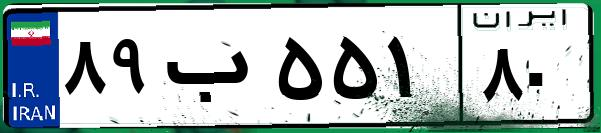0: (525, 38, 570, 115)
1: (385, 28, 445, 110)
5: (270, 28, 330, 110), (330, 28, 385, 110)
8: (57, 26, 110, 100), (475, 38, 525, 113)
9: (110, 28, 158, 98)
ب: (158, 20, 270, 120)
